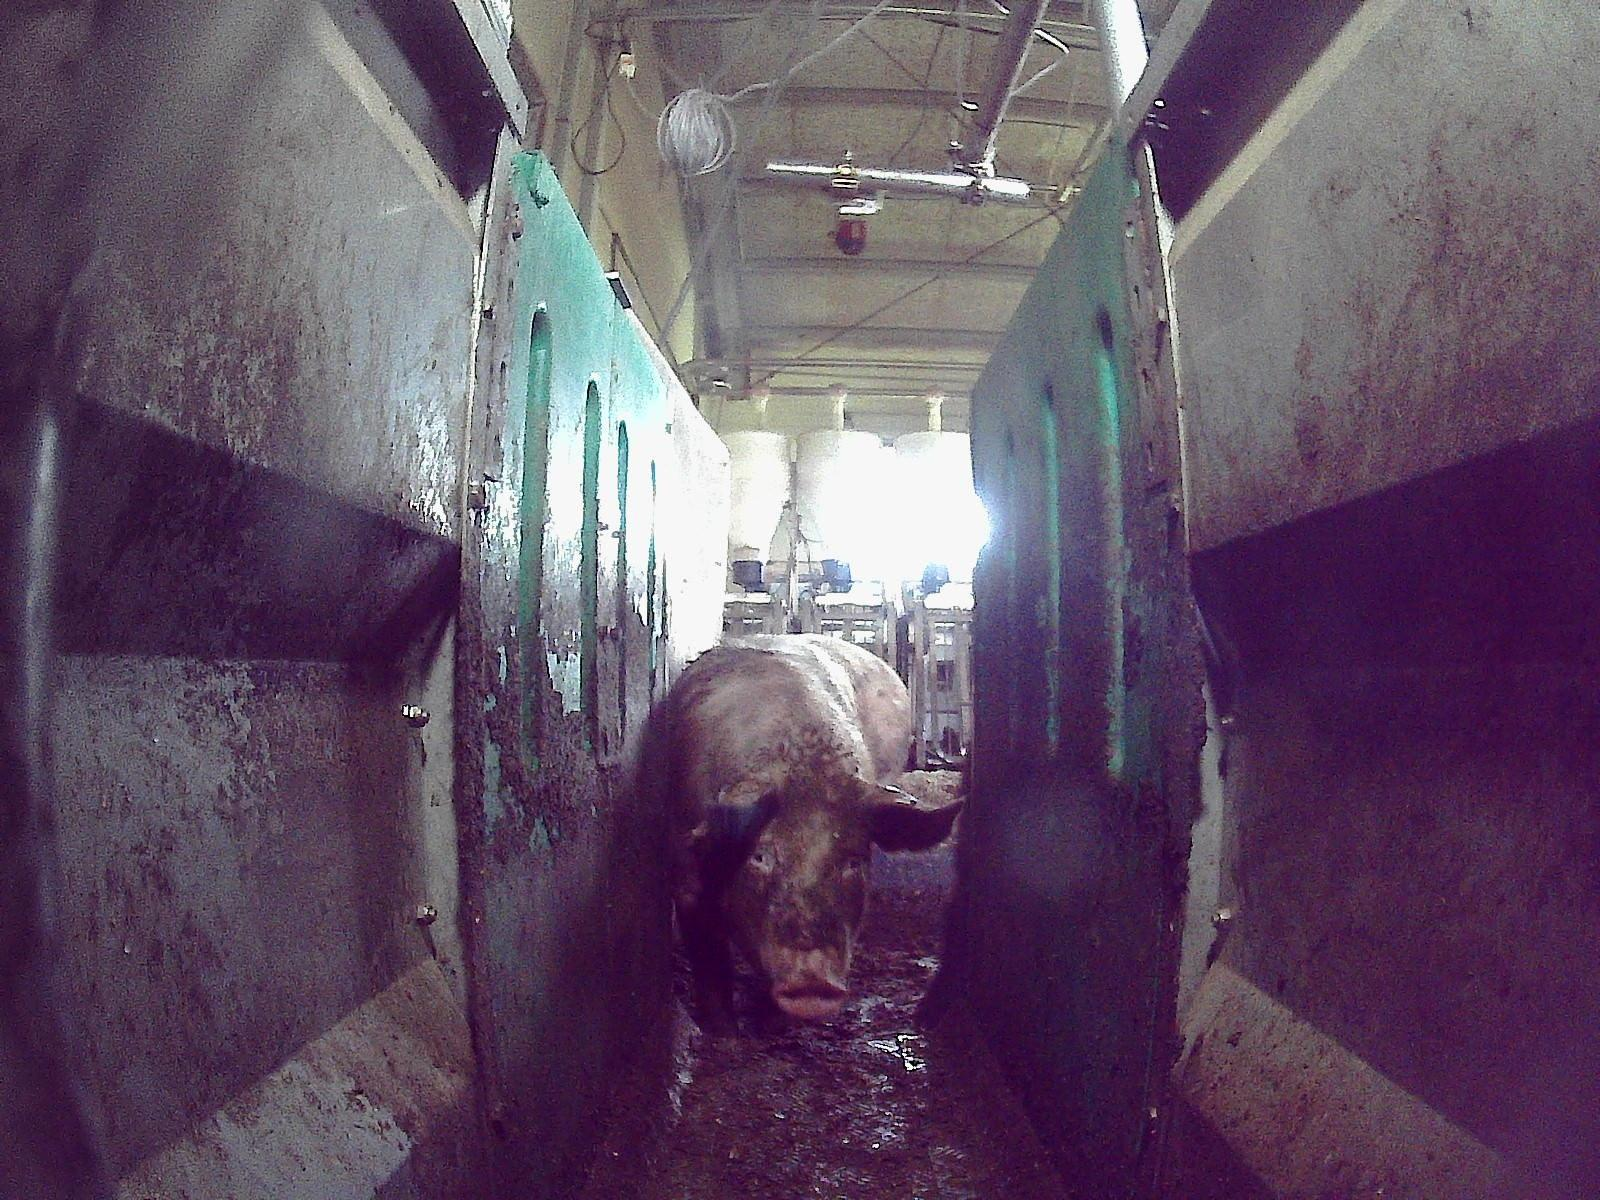Face: (721, 772, 875, 1019)
